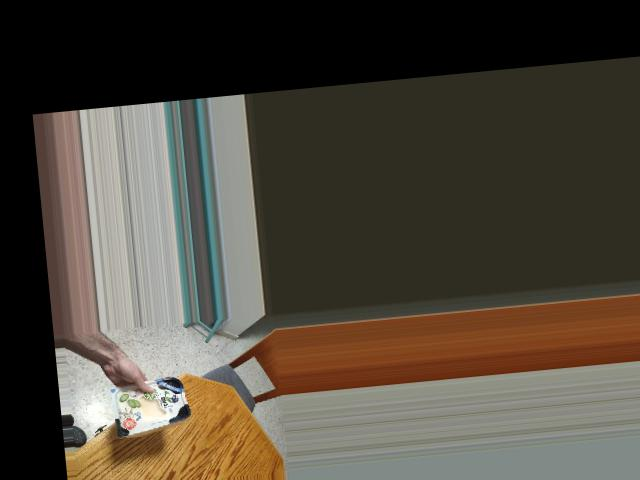cheese: (119, 374, 194, 433)
